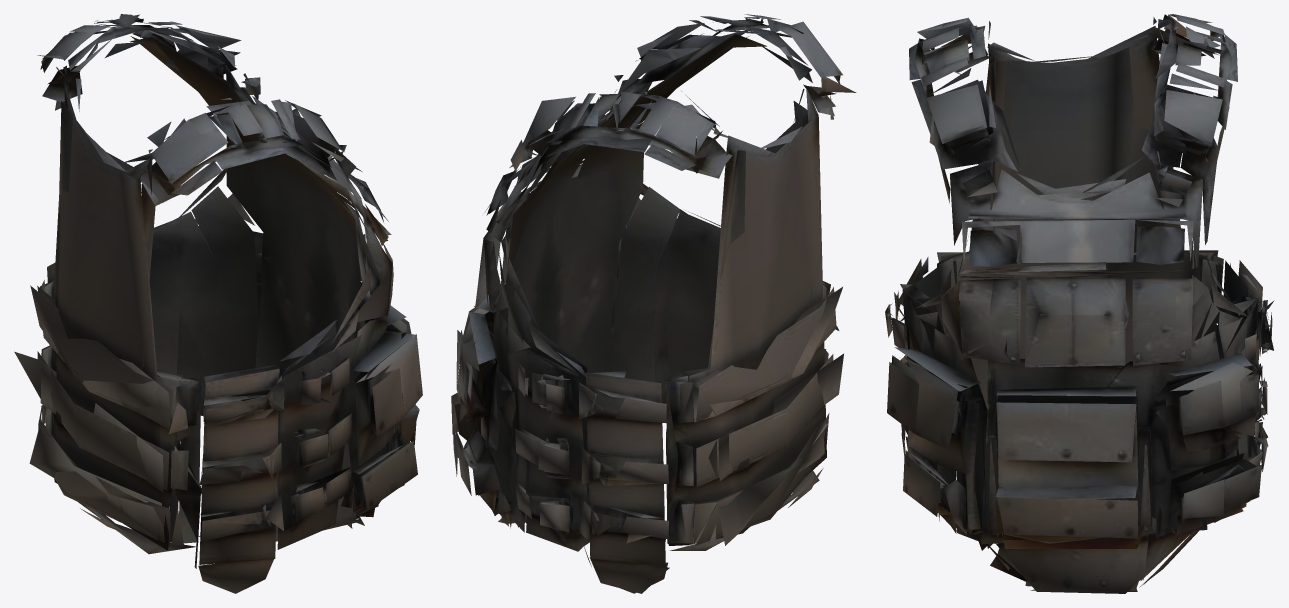
The model's file is mer_heavy_armor_vest_LOD3.glb.
3 views of the same model, side by side, from view 1: azimuth 30°, elevation 25°; view 2: azimuth 150°, elevation 25°; view 3: azimuth 270°, elevation 25° (orthographic).
Parts seen in each view (by area): view 1: tripo_node_8c215259-2e06-4478-ae20-6da728c0bd17; view 2: tripo_node_8c215259-2e06-4478-ae20-6da728c0bd17; view 3: tripo_node_8c215259-2e06-4478-ae20-6da728c0bd17.
Boxes of the visible parts, x1=… form: tripo_node_8c215259-2e06-4478-ae20-6da728c0bd17: x1=14, y1=14, x2=422, y2=593; tripo_node_8c215259-2e06-4478-ae20-6da728c0bd17: x1=451, y1=14, x2=856, y2=593; tripo_node_8c215259-2e06-4478-ae20-6da728c0bd17: x1=885, y1=14, x2=1274, y2=593.
Bounding box in the file's own units: 0.6663 × 1 × 0.7214.
Materials: 1 (1 with a texture image).
